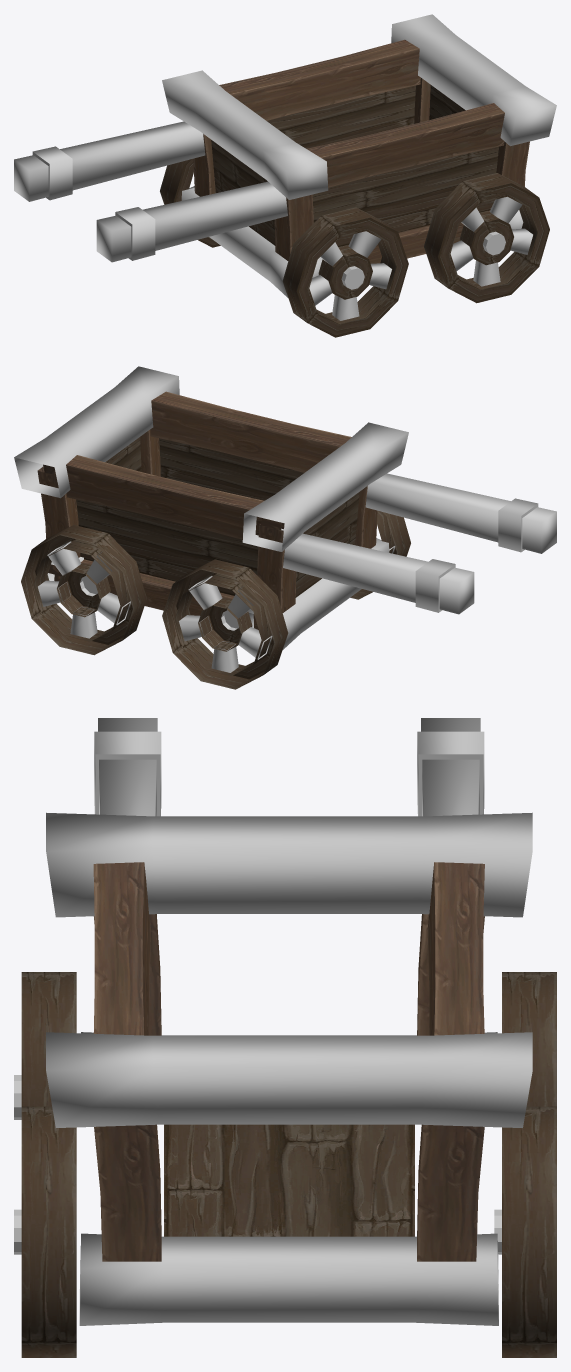
The model's file is cs_zhucheng_tuiche_001.FBX.
3 views of the same model, one above another, from view 1: azimuth 30°, elevation 25°; view 2: azimuth 150°, elevation 25°; view 3: azimuth 270°, elevation 25° (orthographic). The views are drawn at different scales.
Visible parts, largest first — view 1: cs_zhucheng_tuiche_001; view 2: cs_zhucheng_tuiche_001; view 3: cs_zhucheng_tuiche_001.
Part boxes in pixels (box(x1,y1,x2,y2)): cs_zhucheng_tuiche_001: box(14, 14, 556, 337); cs_zhucheng_tuiche_001: box(14, 366, 556, 689); cs_zhucheng_tuiche_001: box(14, 718, 556, 1357).
Size of the model in its own units: 196 by 109 by 74.76.
